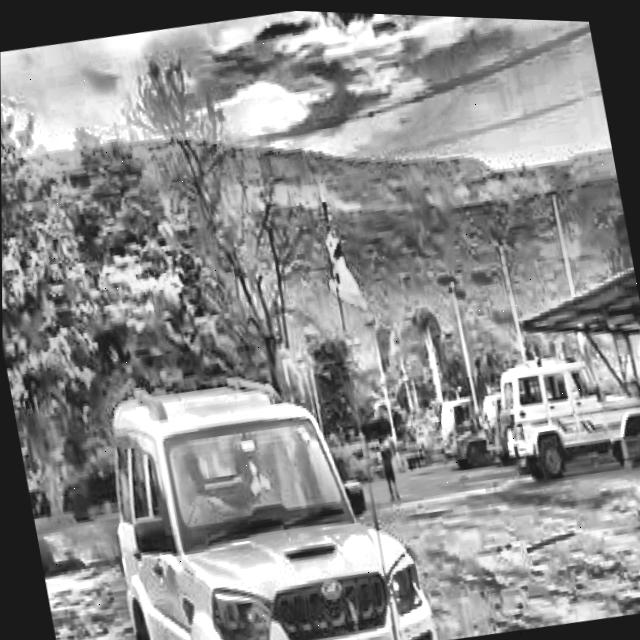light_vehicle: (88, 347, 431, 640), (492, 335, 640, 489)
